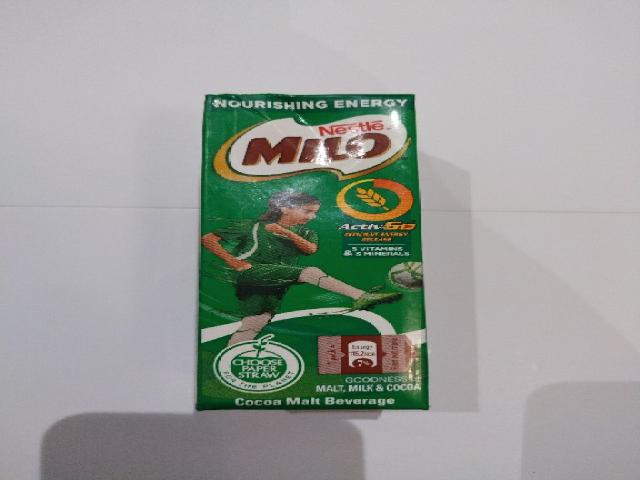drink_box: (189, 89, 432, 411)
